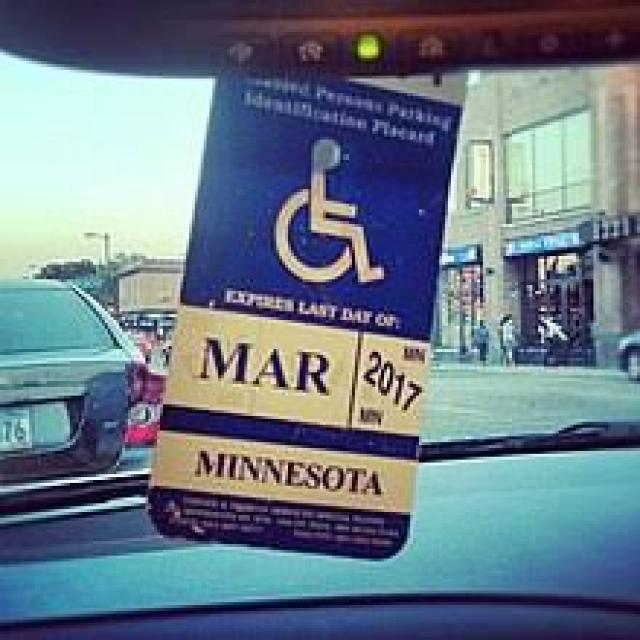car-handicap-placard: (271, 130, 395, 292)
